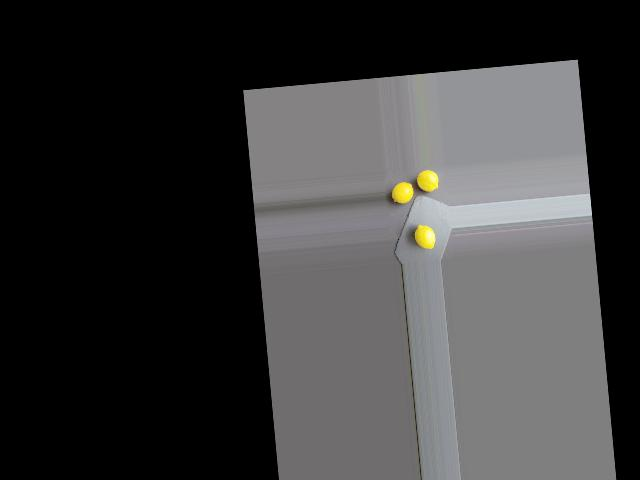lemon: (415, 167, 440, 194)
